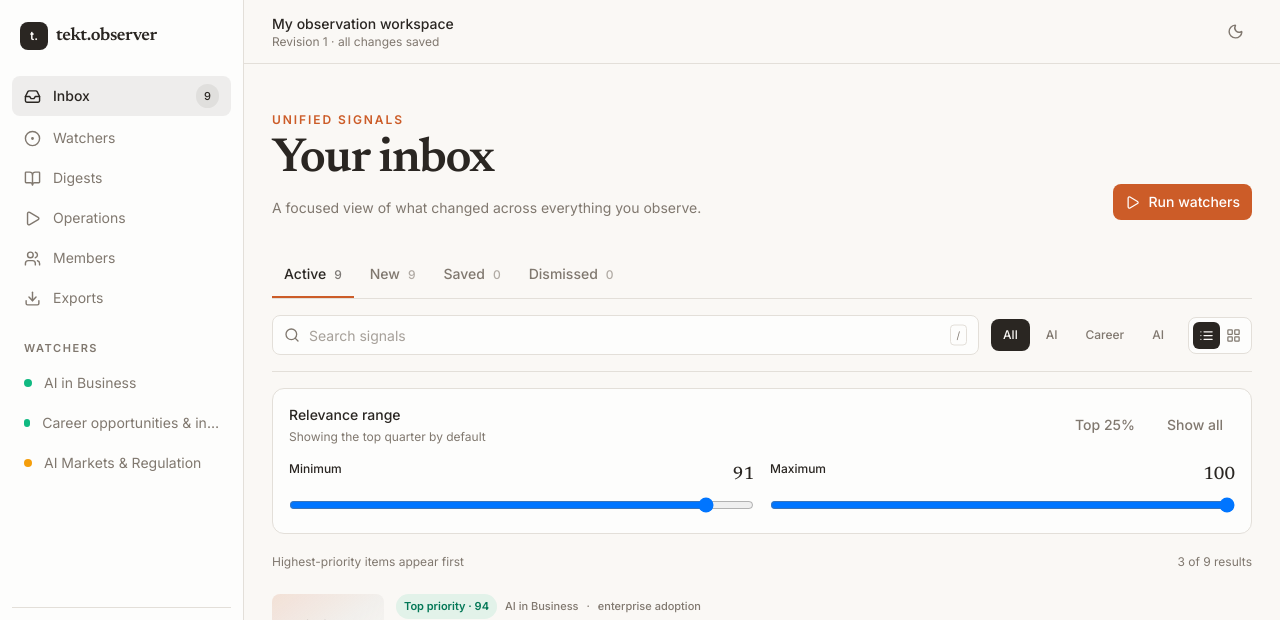
Test: shows a useful starter inbox when the API is offline
Expected: the heading "Your inbox" is shown, [272,136,494,184]
Expected: the text "AI Markets & Regulation" is shown, [44,452,201,472]
Set the slider named "Minimum score" to "93" at (715, 505), box [289,497,754,513]
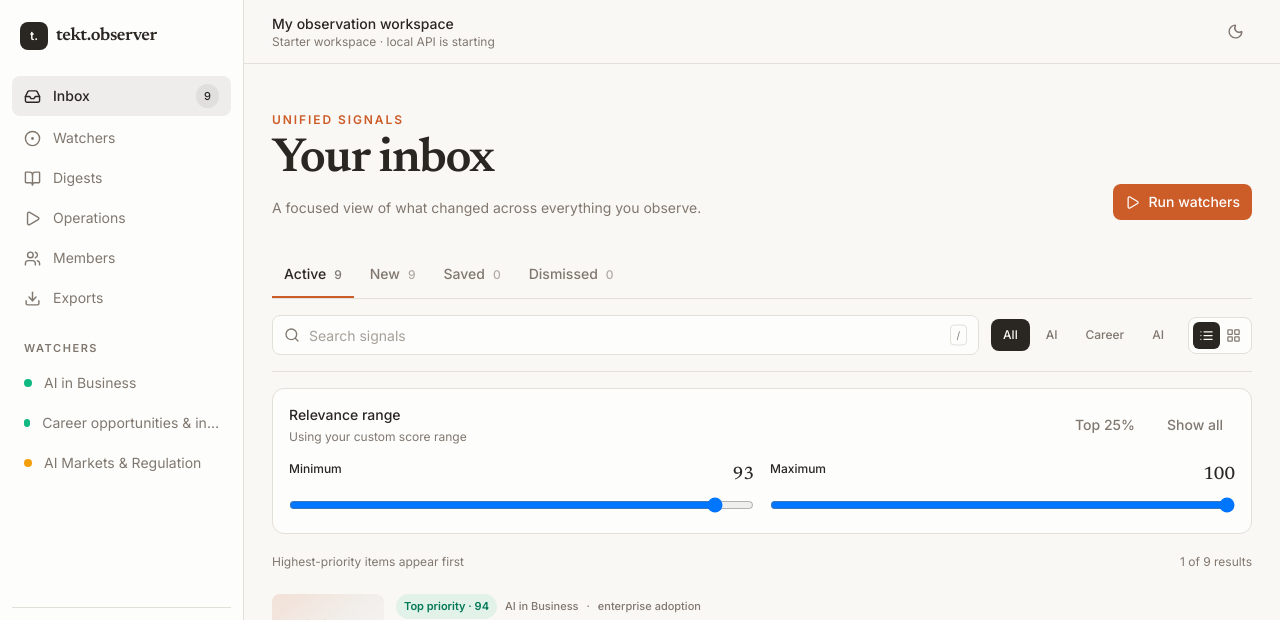
Expected: the text "Senior AI Platform Engineer" is not shown
Click the button "Show all" at (1195, 425), box [1155,407,1235,443]
(page scrolled)
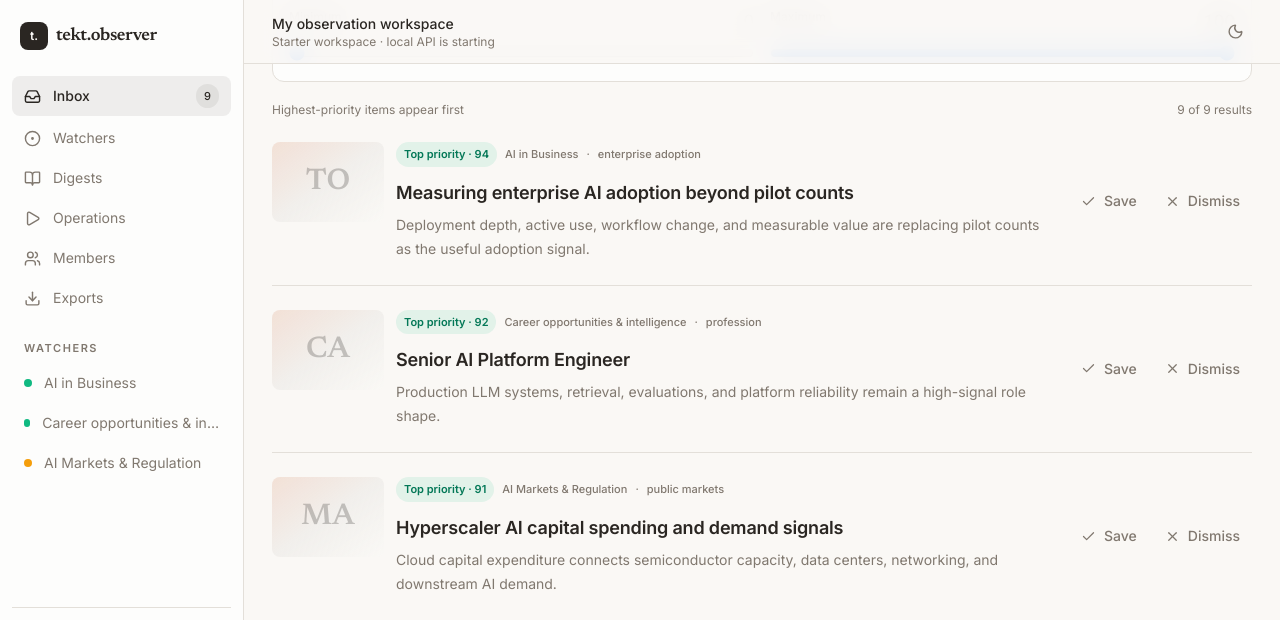
Now the heading "Senior AI Platform Engineer" is shown, box [396,349,630,370]
